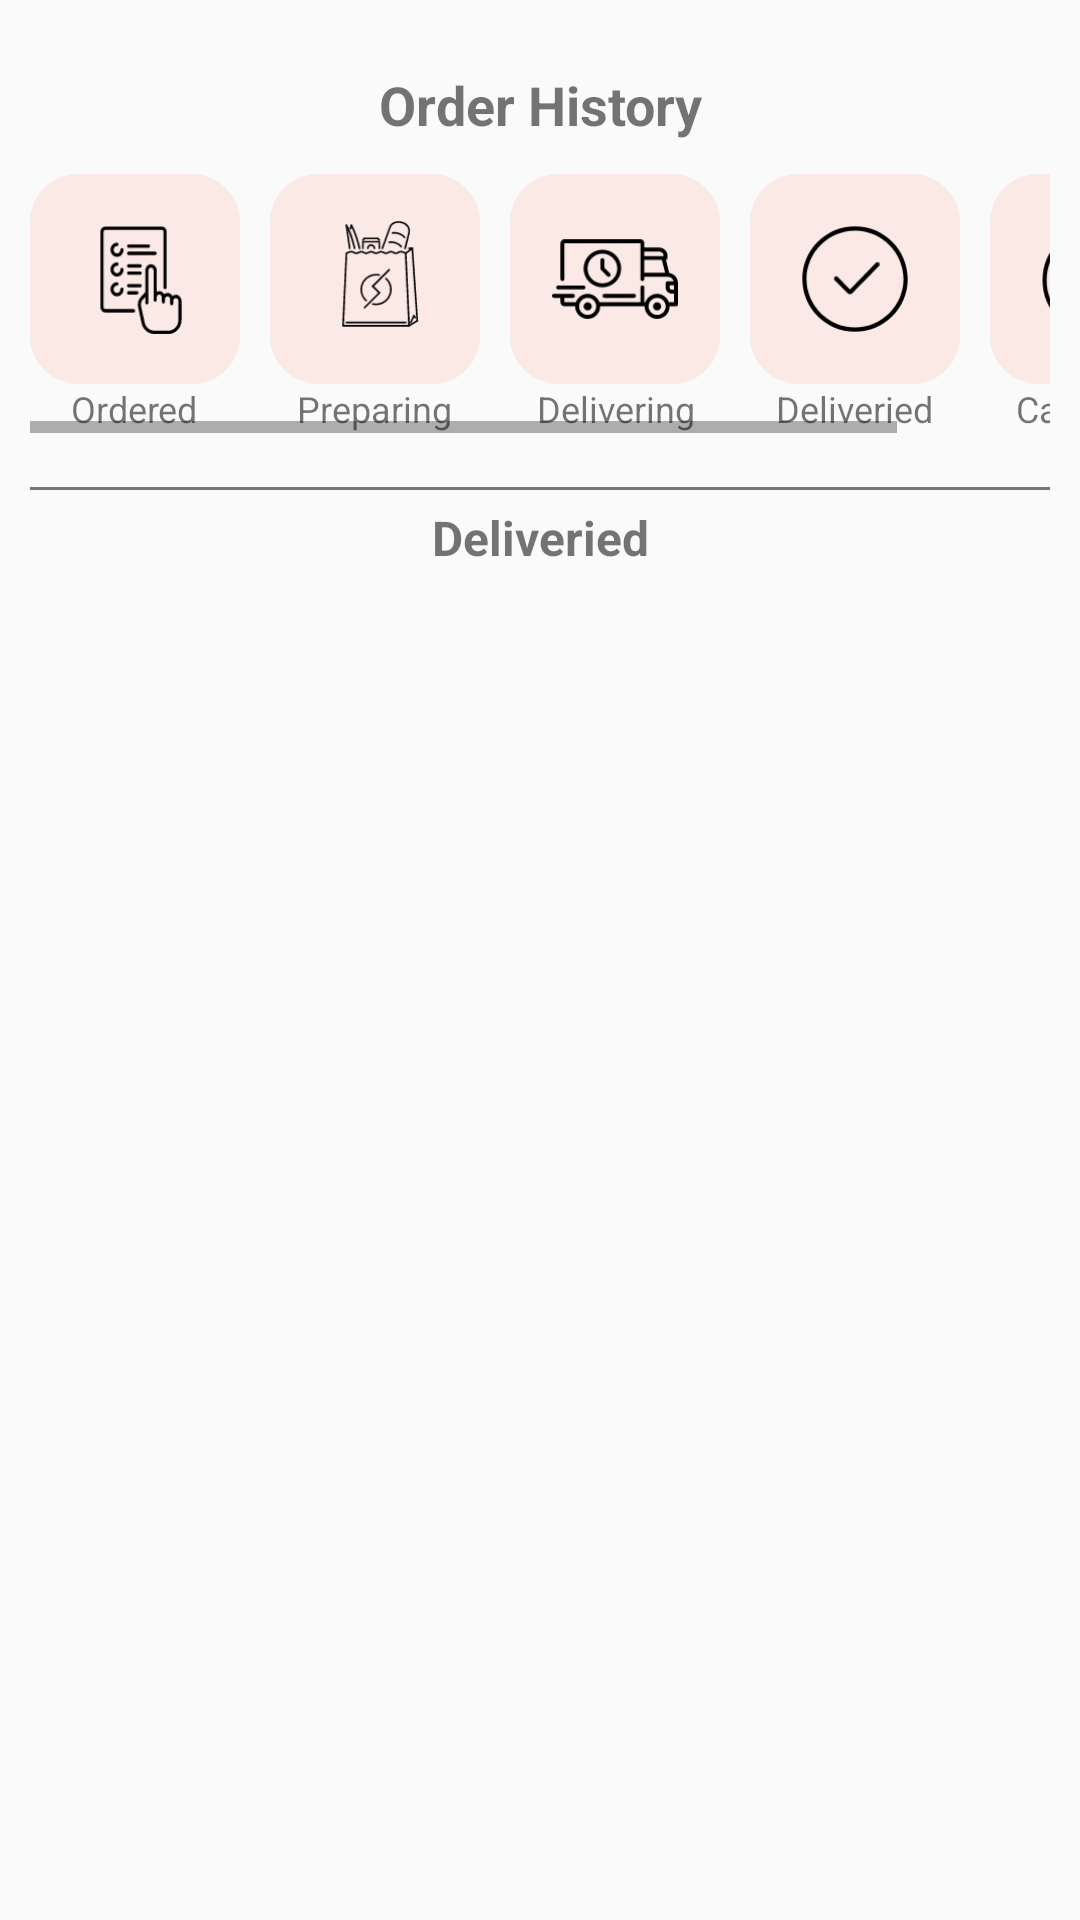

Where to tap for icons on this 1080w x 1920h app screen, as (x,y):
choices order: (141,280)
delivery: (615,279)
food bag: (380,274)
tick circle: (855,279)
